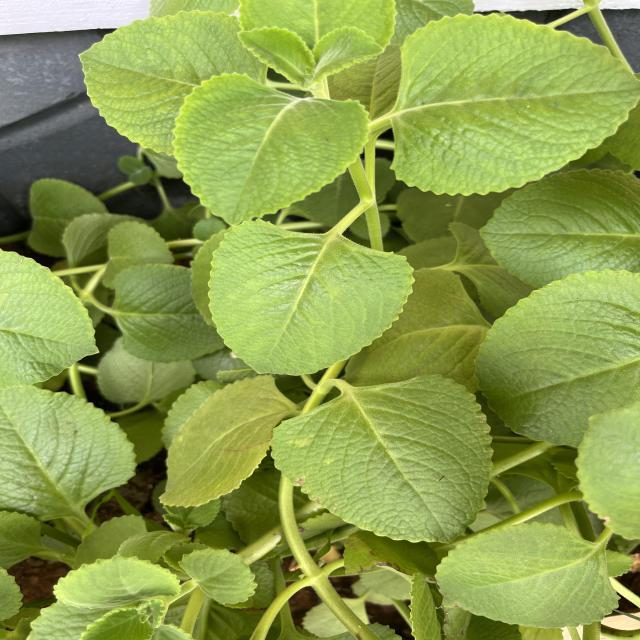Plectranthus barbatus: (386, 9, 640, 198), (270, 372, 494, 546), (205, 216, 416, 375), (170, 70, 373, 224), (473, 268, 640, 452), (76, 7, 242, 158), (433, 518, 623, 632), (477, 162, 640, 276), (4, 382, 139, 518), (157, 374, 291, 510)
